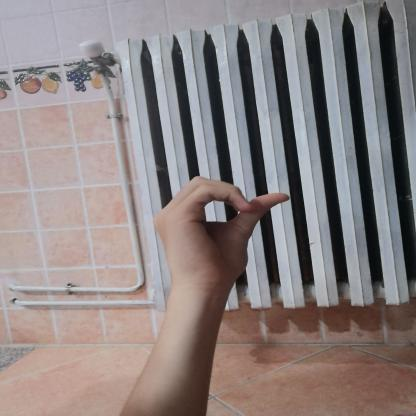WAW: (141, 169, 300, 300)
